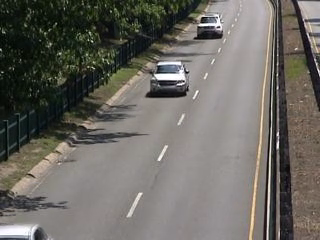car: (147, 58, 194, 96), (194, 13, 228, 41)
